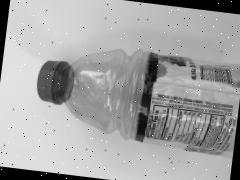plastic: (12, 16, 240, 180)
